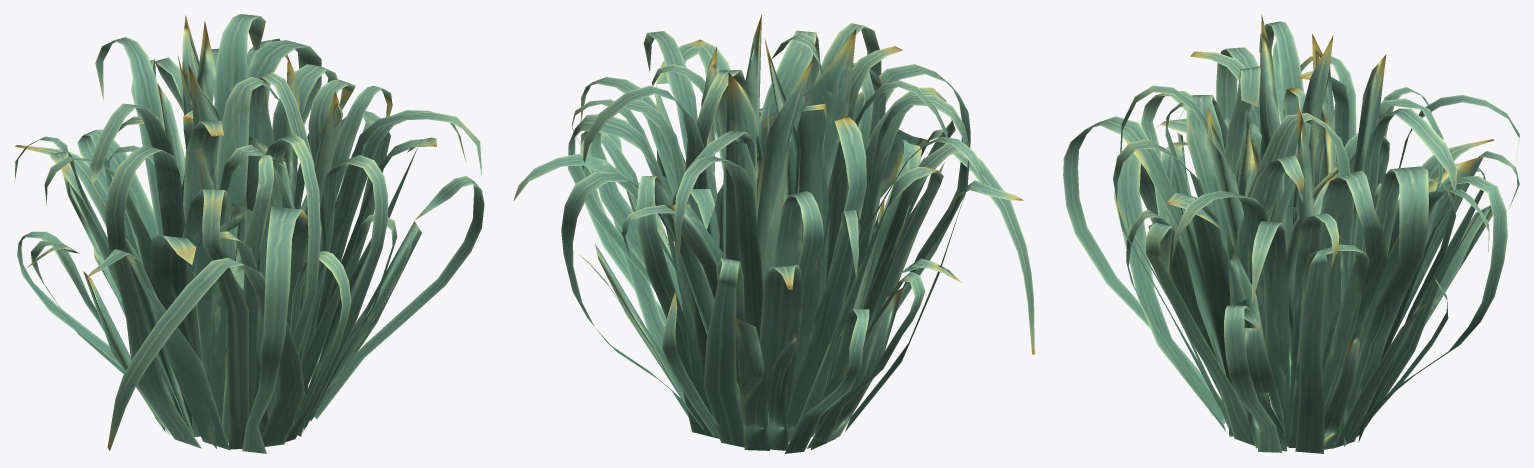
File: seagrass.glb
3 renders of one model, left to right at view 1: azimuth 30°, elevation 25°; view 2: azimuth 150°, elevation 25°; view 3: azimuth 270°, elevation 25°, orthographic. The views are drawn at different scales.
Bounding box in the file's own units: 1 × 0.9101 × 0.984.
Materials: 1 (1 with a texture image).
